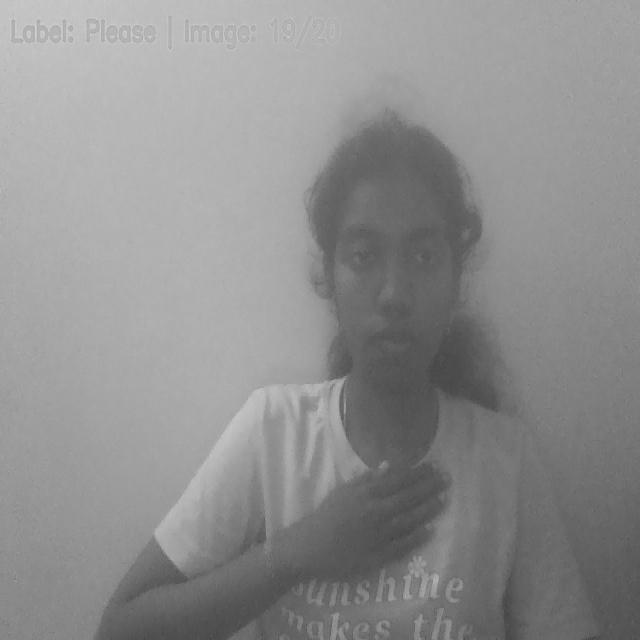Please: (250, 452, 460, 616)
